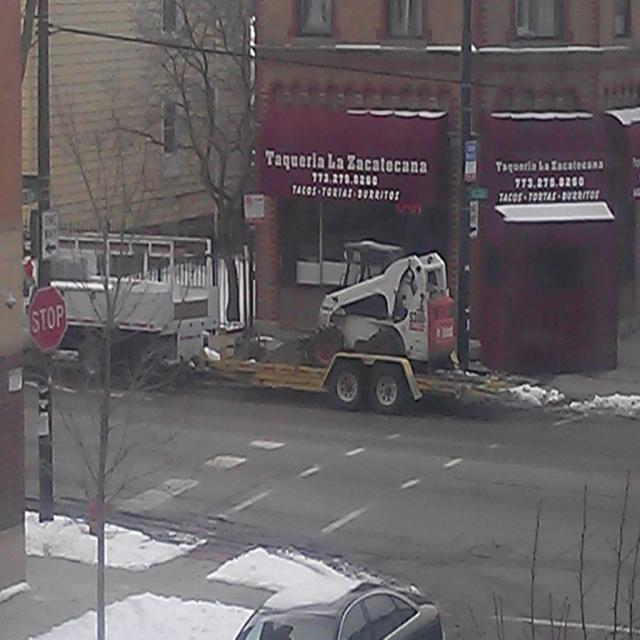Stop-sign: (25, 283, 69, 355)
